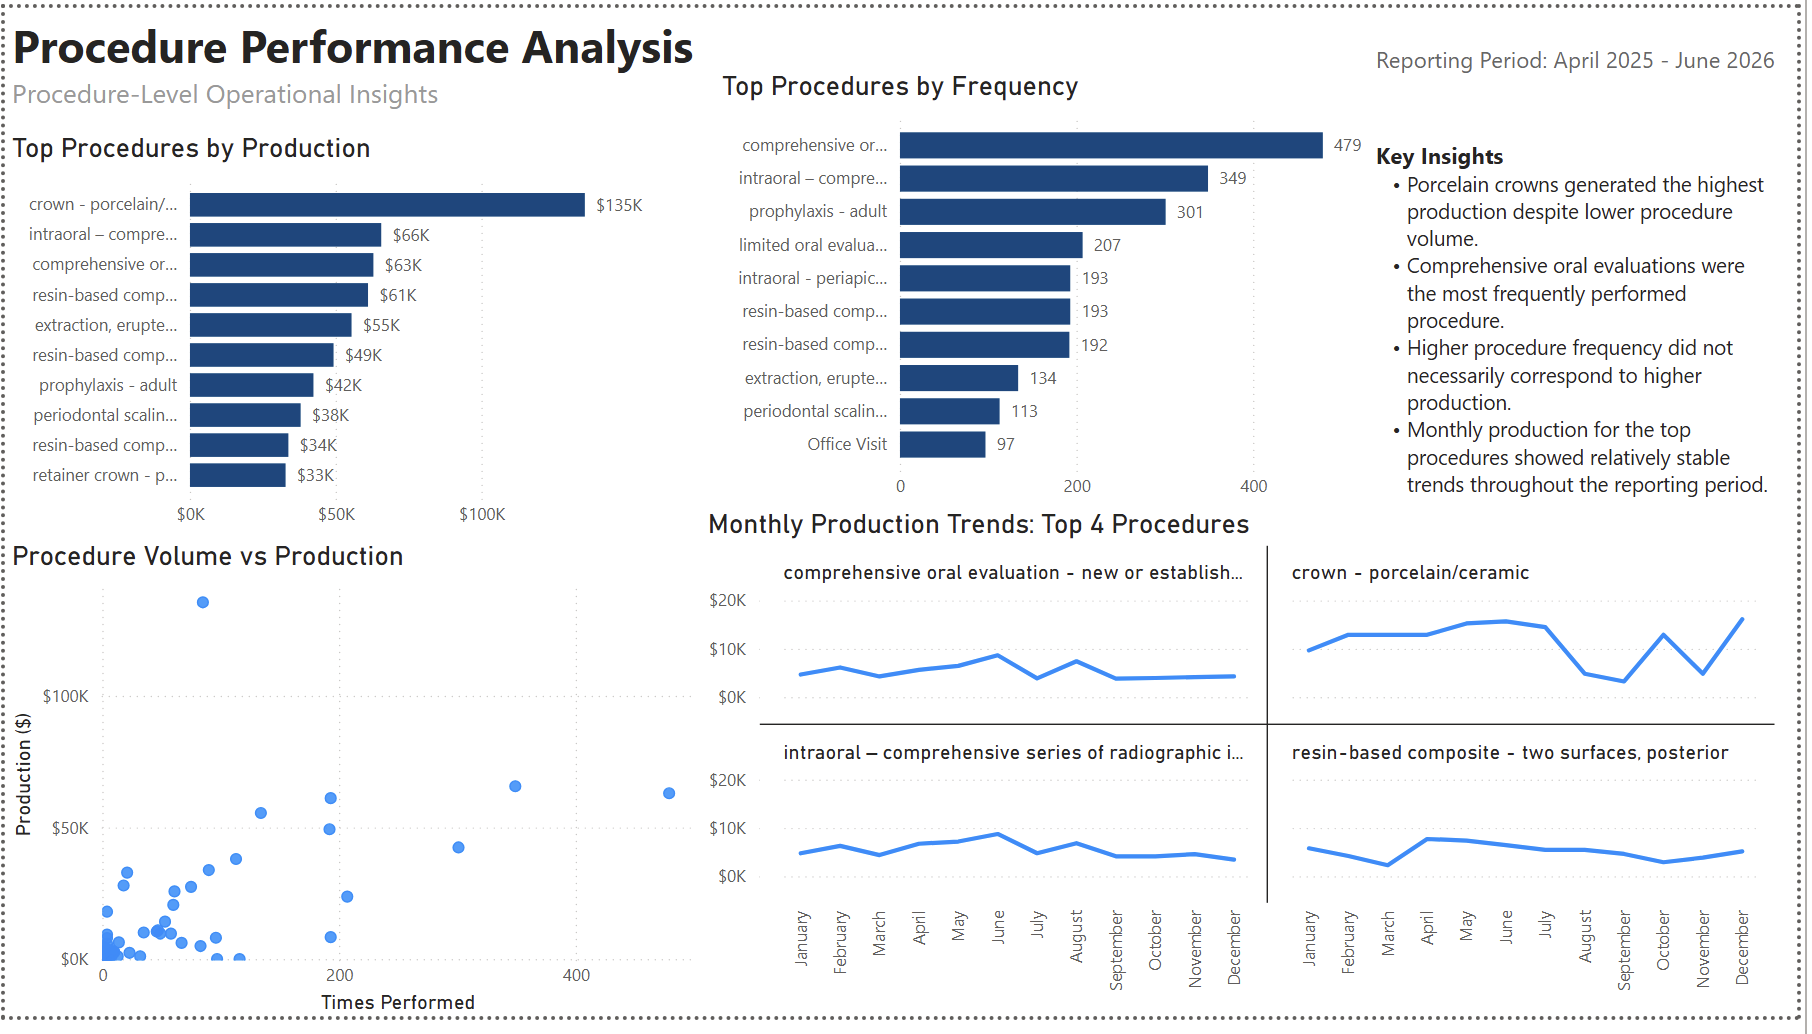

Layout of this report page (visuals, bound fields, positions):
{"tool":"powerbi","page":{"name":"Operational Analytics","canvas":[1280,720],"ordinal":1},"visuals":[{"type":"barChart","title":"Top Procedures by Production","fields":{"Category":["procedure_frequency.Descript"],"Y":["Sum(procedure_frequency.Production)"]},"box":[0,88.6,477.1,291.4],"z":0},{"type":"barChart","title":"Top Procedures by Frequency","fields":{"Y":["Sum(procedure_frequency.Times_Performed)"],"Category":["procedure_frequency.Descript"]},"box":[507.1,44.3,477.1,315.7],"z":1000},{"type":"scatterChart","title":"Procedure Volume vs Production","fields":{"X":["Sum(procedure_frequency.Times_Performed)"],"Y":["procedure_frequency.Production"]},"box":[0,380,507.1,342.9],"z":3000},{"type":"textbox","box":[974.3,20,295.7,107.1],"z":4000},{"type":"lineChart","title":"Monthly Production Trends: Top 4 Procedures","fields":{"Category":["production_by_month_and_procedure.Month.Variation.Date Hierarchy.Month"],"Y":["Sum(production_by_month_and_procedure.Production)"],"Rows":["procedure_frequency.Descript"]},"box":[497.1,357.1,772.9,362.9],"z":4001},{"type":"textbox","box":[0,0,507.1,87.1],"z":4002},{"type":"textbox","box":[974.3,88.6,292.9,294.3],"z":4003}]}

Visuals, with their boxes in screenshot pixels (x1, y1, x2, y2), scaled from the page's 1280x720 canvas onto the 1812x1034 screenshot:
"Top Procedures by Production" barChart: bbox(0, 127, 675, 546)
"Top Procedures by Frequency" barChart: bbox(718, 64, 1393, 517)
"Procedure Volume vs Production" scatterChart: bbox(0, 546, 718, 1033)
textbox: bbox(1379, 29, 1798, 183)
"Monthly Production Trends: Top 4 Procedures" lineChart: bbox(704, 513, 1798, 1033)
textbox: bbox(0, 0, 718, 125)
textbox: bbox(1379, 127, 1794, 550)
